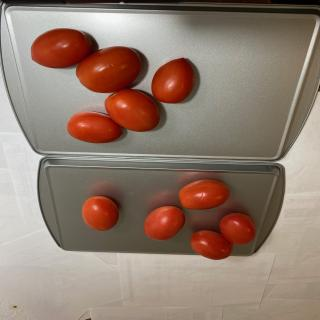Tomato: (76, 46, 142, 93), (31, 28, 92, 69), (104, 89, 160, 132), (151, 57, 195, 104), (67, 112, 123, 144), (178, 179, 230, 210), (144, 206, 186, 241), (82, 196, 119, 231), (190, 230, 233, 260), (220, 212, 256, 245)
